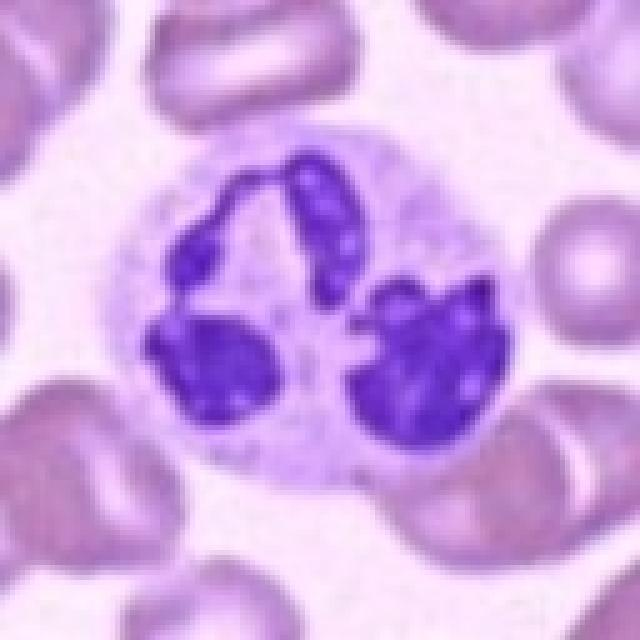neutro: (145, 73, 503, 517)
